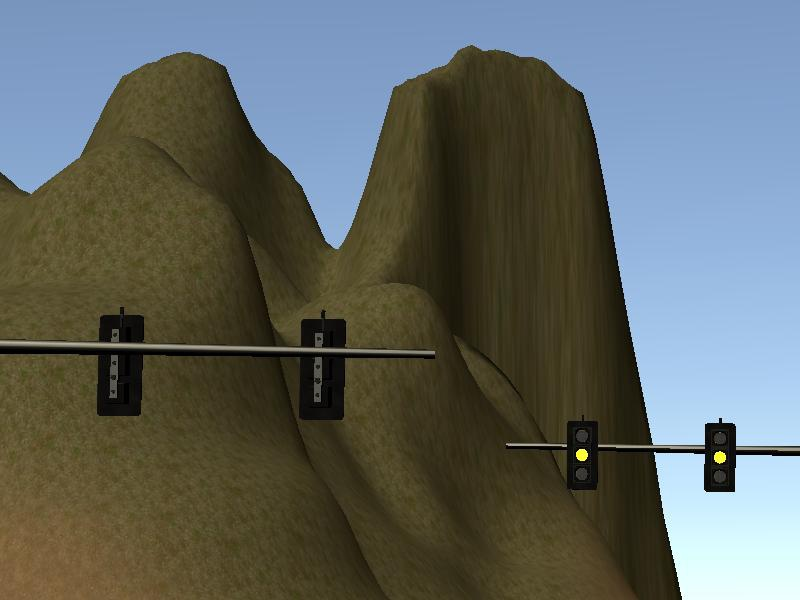yellow_light: (704, 423, 737, 494), (567, 421, 597, 488)
